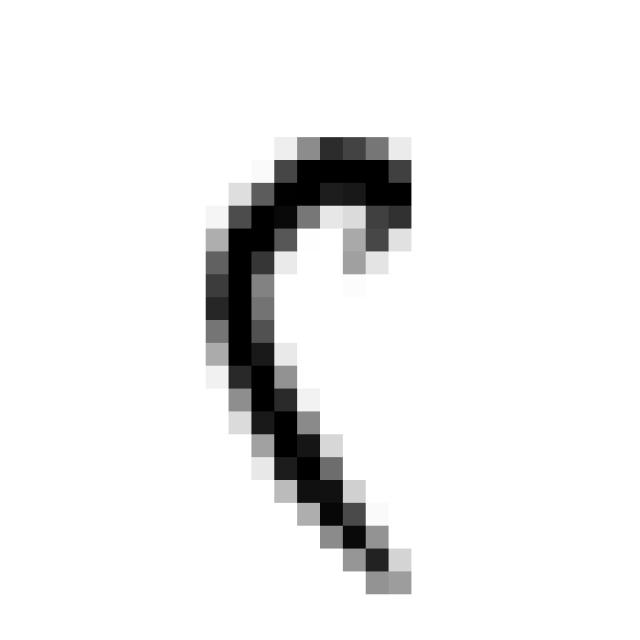2 -two-: (180, 110, 436, 616)
